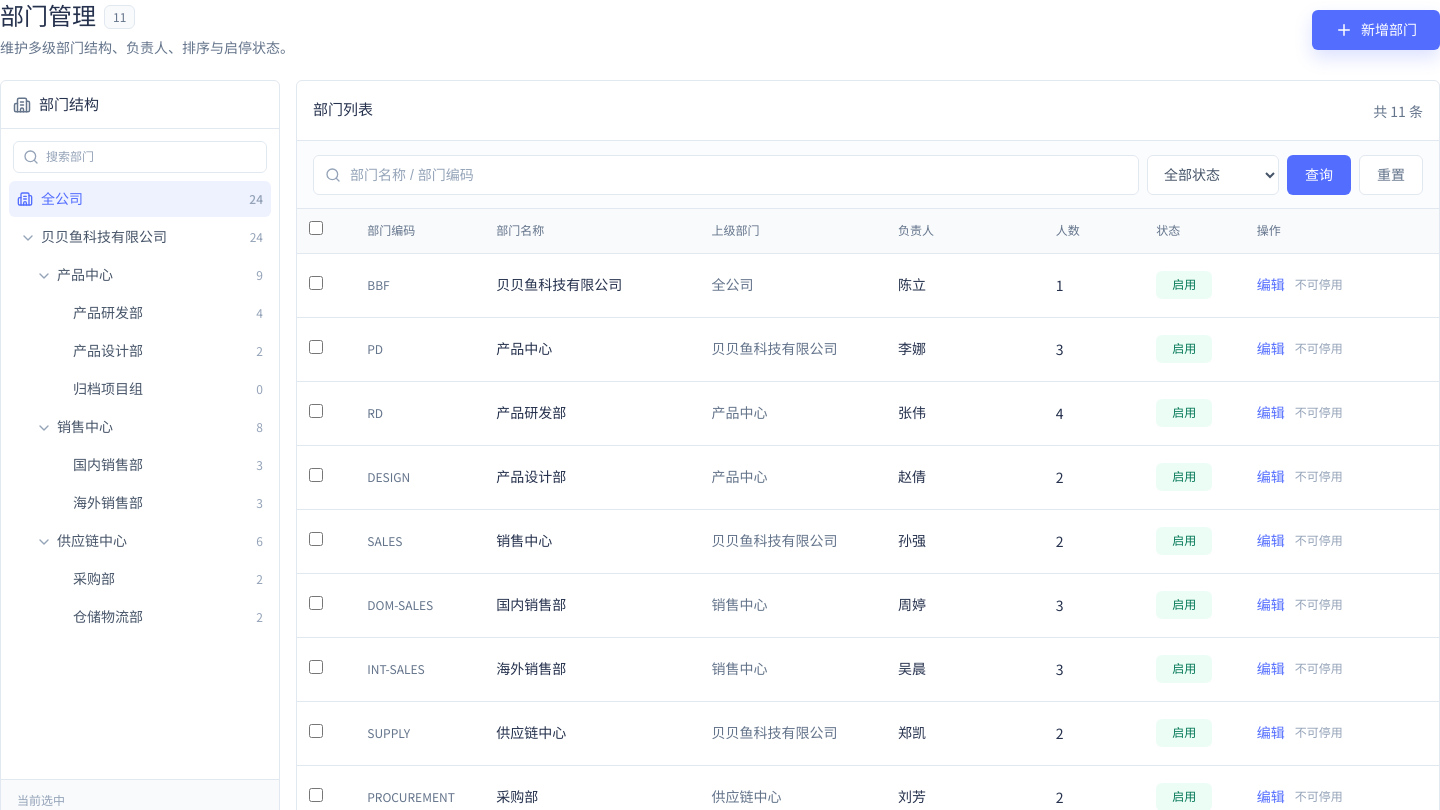
Test: DepartmentManagementView › creates a child department from the selected tree node and loads manager options
Click the button with test id "department-node-2": (85, 275) [9,257,271,293]
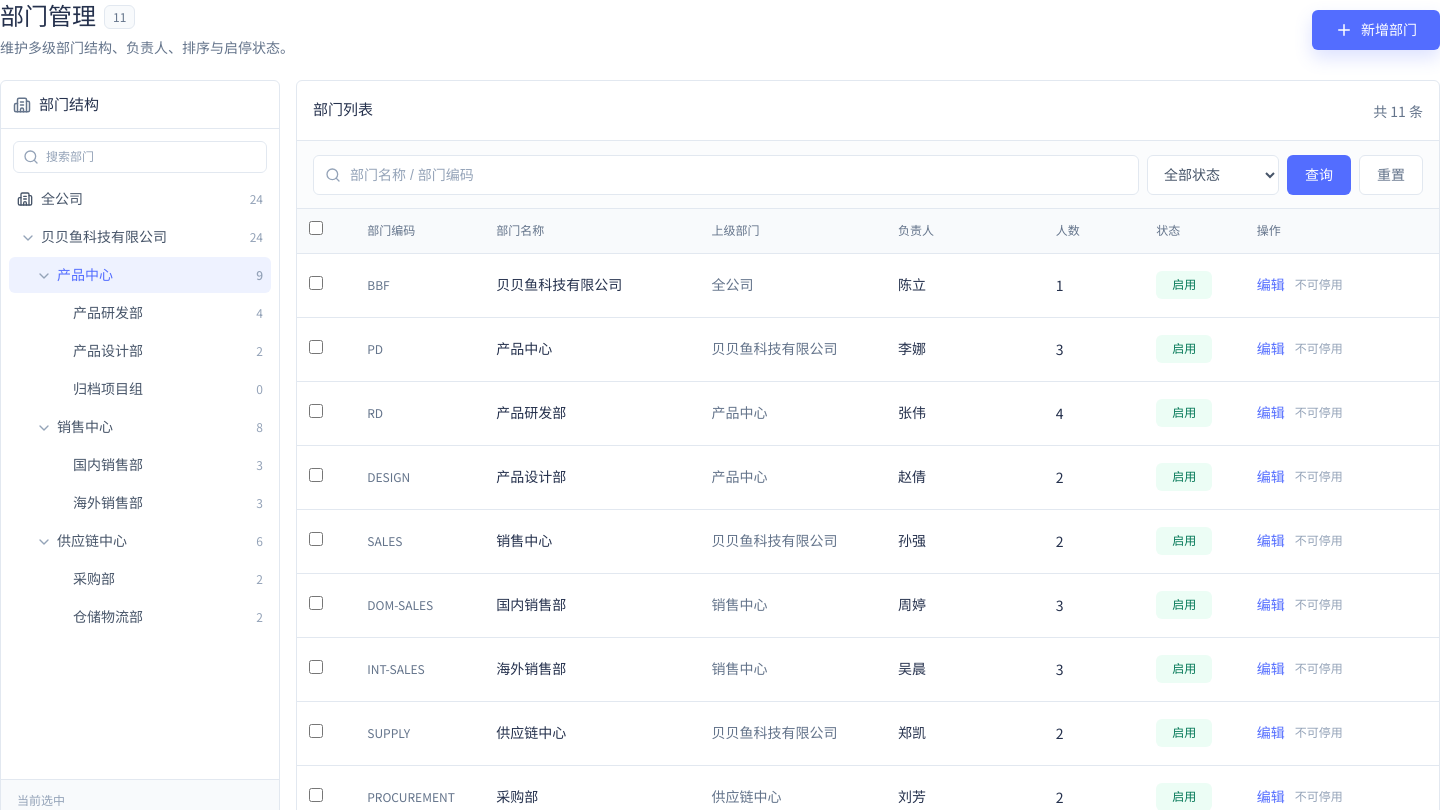
Click the button with test id "add-department": (1376, 30) [1312,10,1439,50]
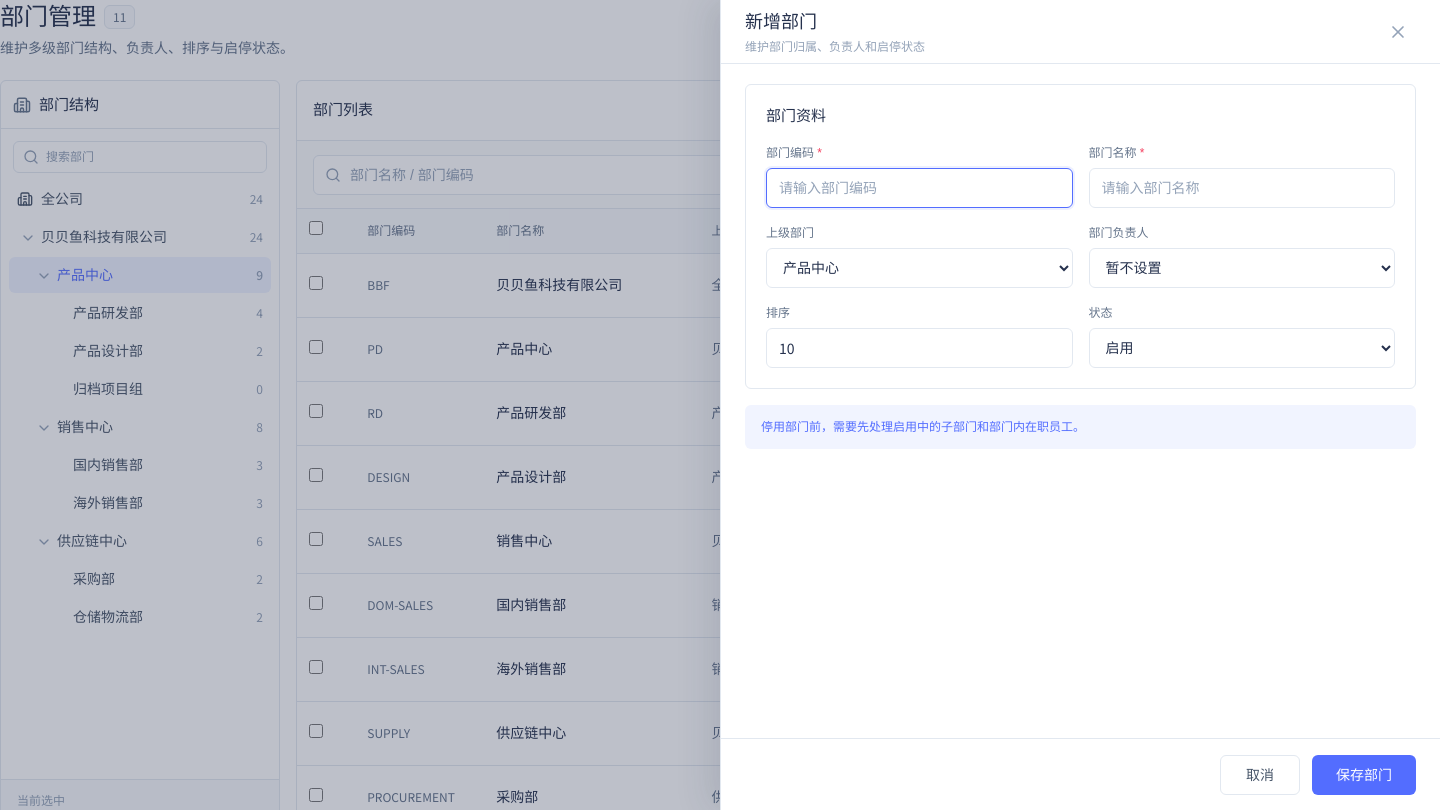
Expected: the dropdown with test id "department-parent" shows "产品中心", [766,248,1072,288]
